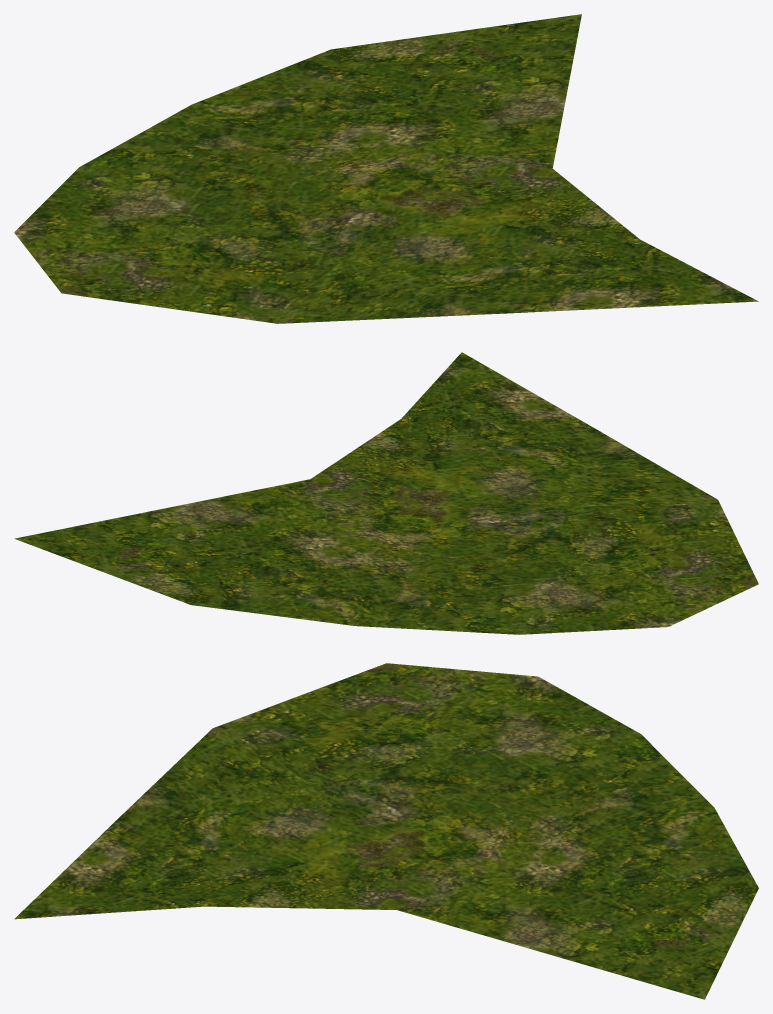
File: OVERHILL_A_01_OBJECT04.fbx
The picture shows the model from 3 angles, top to bottom: view 1: azimuth 30°, elevation 25°; view 2: azimuth 150°, elevation 25°; view 3: azimuth 270°, elevation 25°; orthographic projection. The views are drawn at different scales.
Visible parts, largest first — view 1: OVERHILL_A_01_OBJECT04; view 2: OVERHILL_A_01_OBJECT04; view 3: OVERHILL_A_01_OBJECT04.
Part boxes in pixels (bbox=[...]): OVERHILL_A_01_OBJECT04: bbox=[14, 14, 758, 323]; OVERHILL_A_01_OBJECT04: bbox=[14, 352, 758, 634]; OVERHILL_A_01_OBJECT04: bbox=[14, 663, 758, 999].
Size of the model in its own units: 34800 by 0.0508 by 32544.
1 material, 1 textured.
